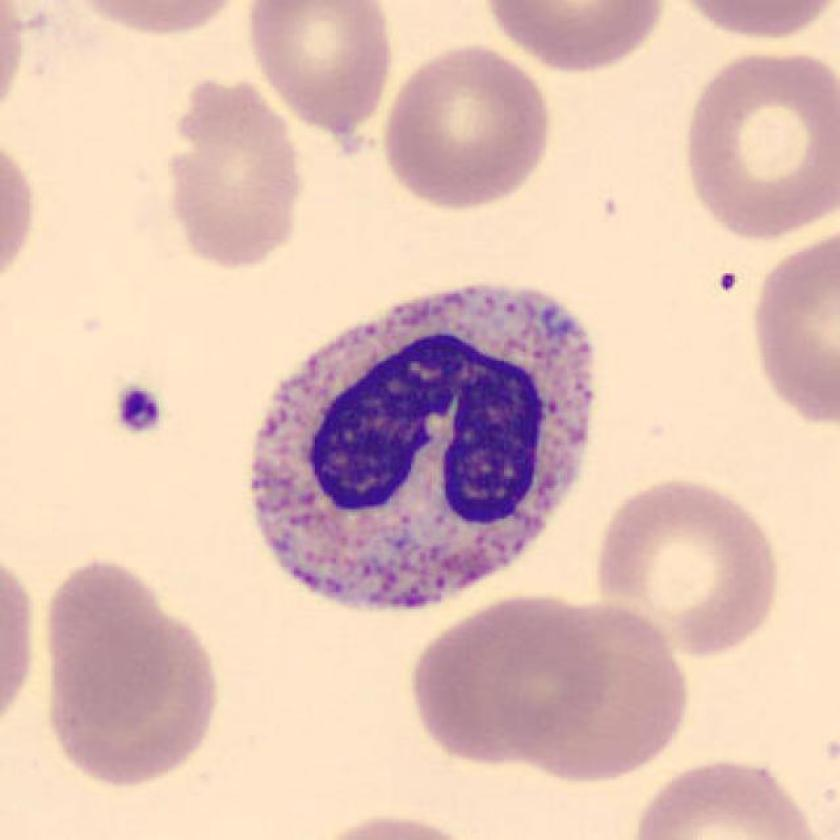neutrophil: (251, 288, 595, 614)
